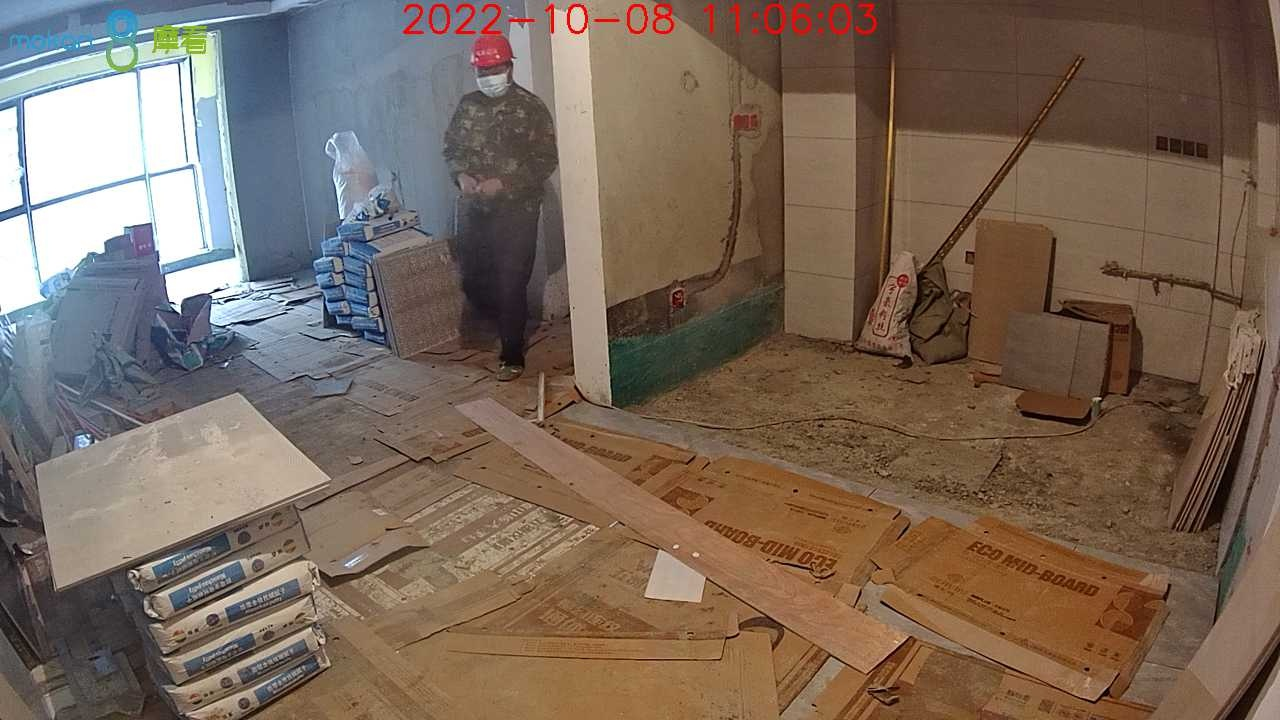people: (441, 34, 559, 379)
window: (3, 56, 205, 307)
